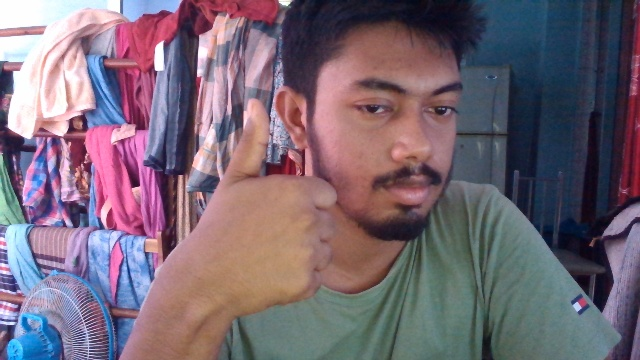yes: (208, 99, 340, 312)
